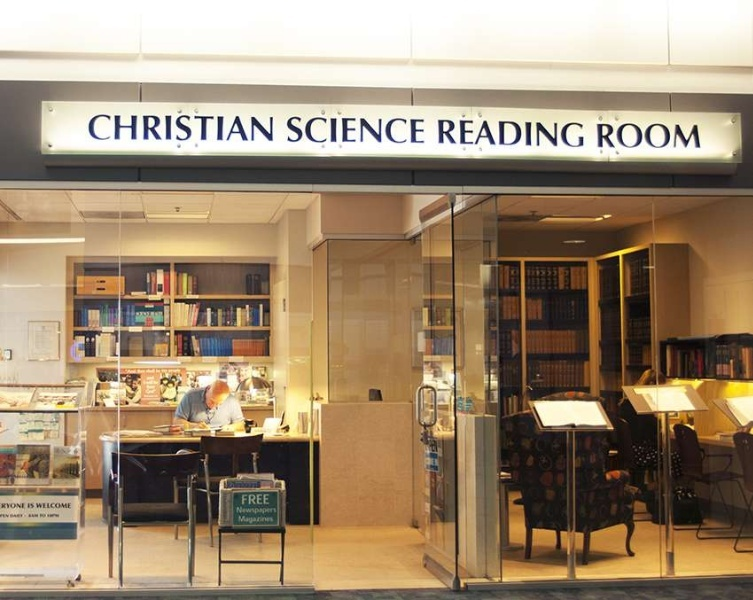text: (257, 112, 273, 141), (449, 119, 464, 149), (465, 119, 480, 149), (481, 119, 496, 149), (497, 119, 512, 149), (513, 119, 528, 149), (529, 119, 544, 149), (545, 119, 560, 149), (561, 119, 576, 149), (97, 112, 112, 141), (113, 112, 128, 141), (129, 112, 144, 141), (145, 112, 160, 141), (161, 112, 176, 141), (177, 112, 192, 141), (193, 112, 208, 141), (209, 112, 224, 141), (225, 112, 240, 141), (241, 112, 256, 141), (289, 117, 304, 144), (305, 117, 320, 144), (321, 117, 336, 144), (337, 117, 352, 144), (353, 117, 368, 144), (369, 117, 384, 144), (385, 117, 400, 144), (401, 117, 416, 144), (609, 123, 624, 150), (625, 123, 640, 150), (641, 123, 656, 150), (657, 123, 672, 150), (673, 123, 688, 150), (436, 119, 448, 149), (595, 123, 608, 150), (689, 123, 701, 150), (417, 117, 426, 144), (577, 119, 584, 149), (89, 112, 96, 141), (241, 494, 256, 506), (257, 494, 271, 506), (1, 502, 16, 511), (241, 515, 256, 524), (257, 515, 272, 524), (241, 507, 256, 515), (257, 507, 272, 515), (49, 502, 64, 509), (36, 502, 48, 509), (17, 502, 26, 511), (33, 514, 48, 519), (1, 514, 16, 519), (49, 514, 61, 519), (286, 117, 288, 144), (65, 502, 72, 509), (235, 507, 240, 515), (273, 507, 278, 515), (17, 514, 24, 519), (28, 502, 32, 510), (238, 515, 240, 524), (273, 515, 275, 524), (33, 502, 35, 510), (29, 514, 32, 519)
